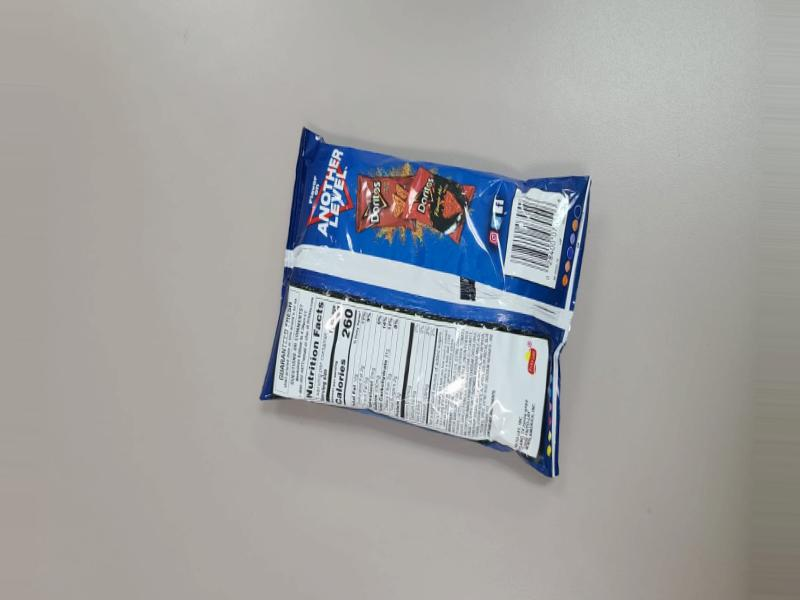doritos: (246, 128, 588, 481)
